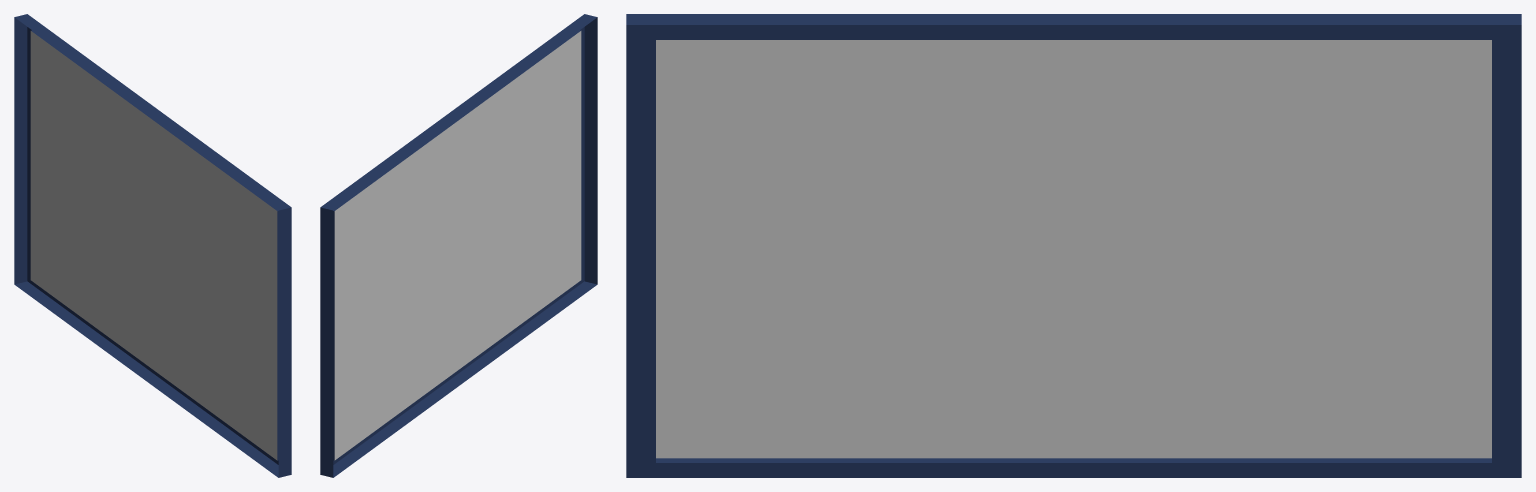
Rendered from sing 2.fbx.
The picture shows the model from 3 angles, left to right: view 1: azimuth 30°, elevation 25°; view 2: azimuth 150°, elevation 25°; view 3: azimuth 270°, elevation 25°; orthographic projection. The views are drawn at different scales.
Parts seen in each view (by area): view 1: pCube64; view 2: pCube64; view 3: pCube64.
Part boxes in pixels (x1,y1,x2,y2): pCube64: (14,14,291,477); pCube64: (320,14,597,477); pCube64: (626,14,1521,477).
Bounding box in the file's own units: 0.2683 × 5.23 × 9.36.
